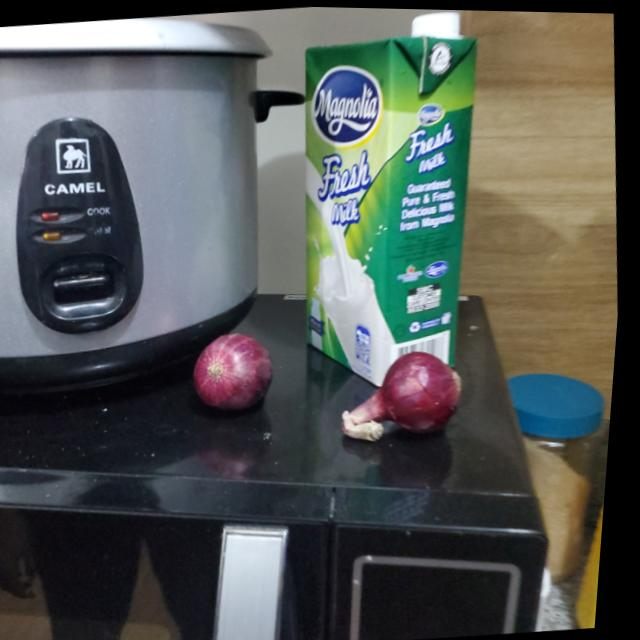milk: (279, 5, 511, 387)
onion: (343, 345, 474, 443), (195, 329, 285, 410)
